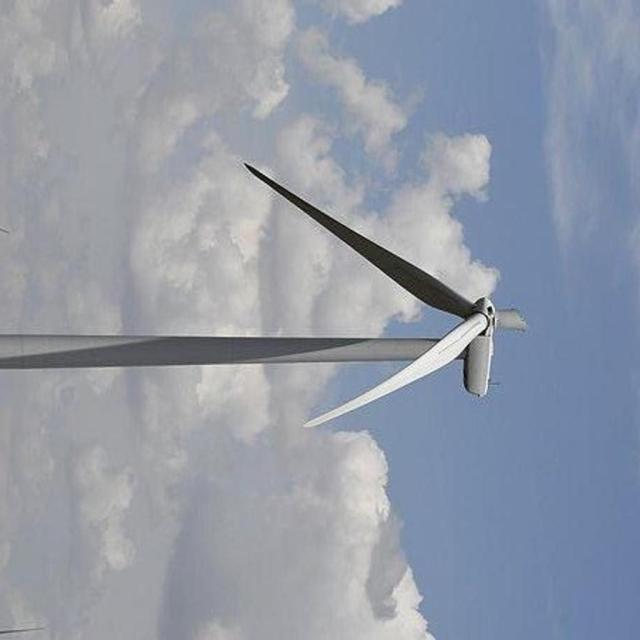crack: (486, 300, 552, 344)
